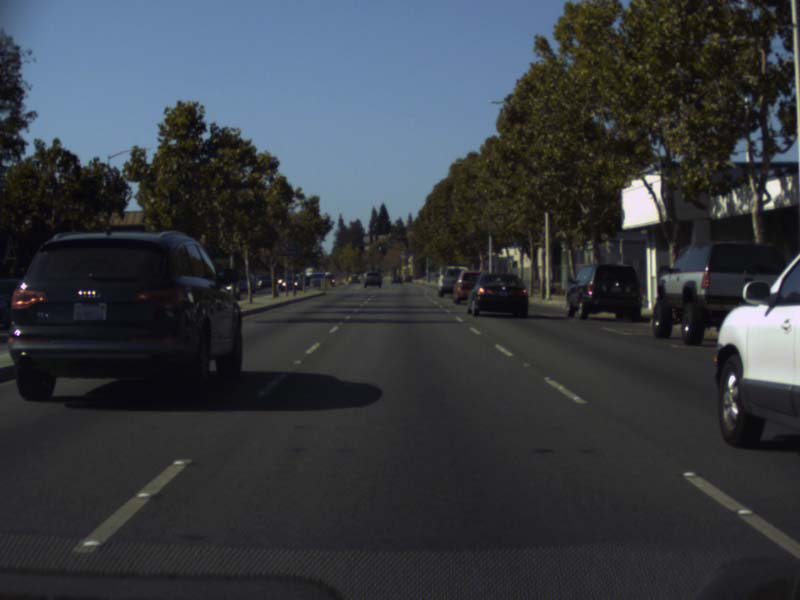Green: (376, 244, 381, 250)
